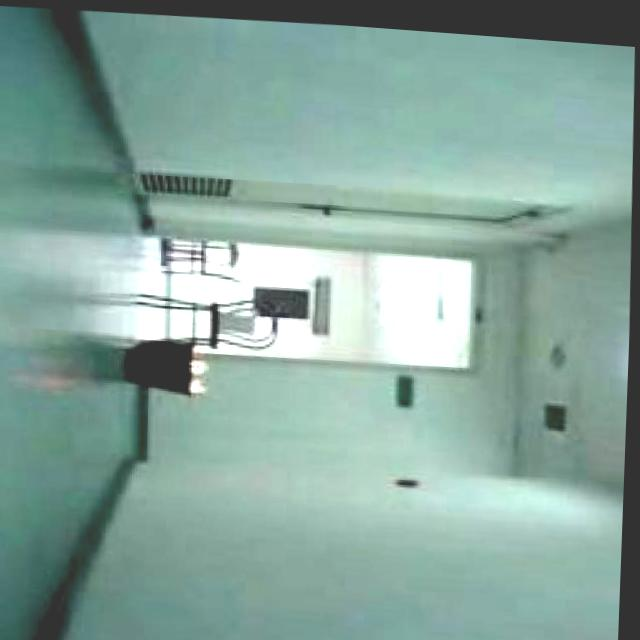helmet: (193, 340, 211, 397)
